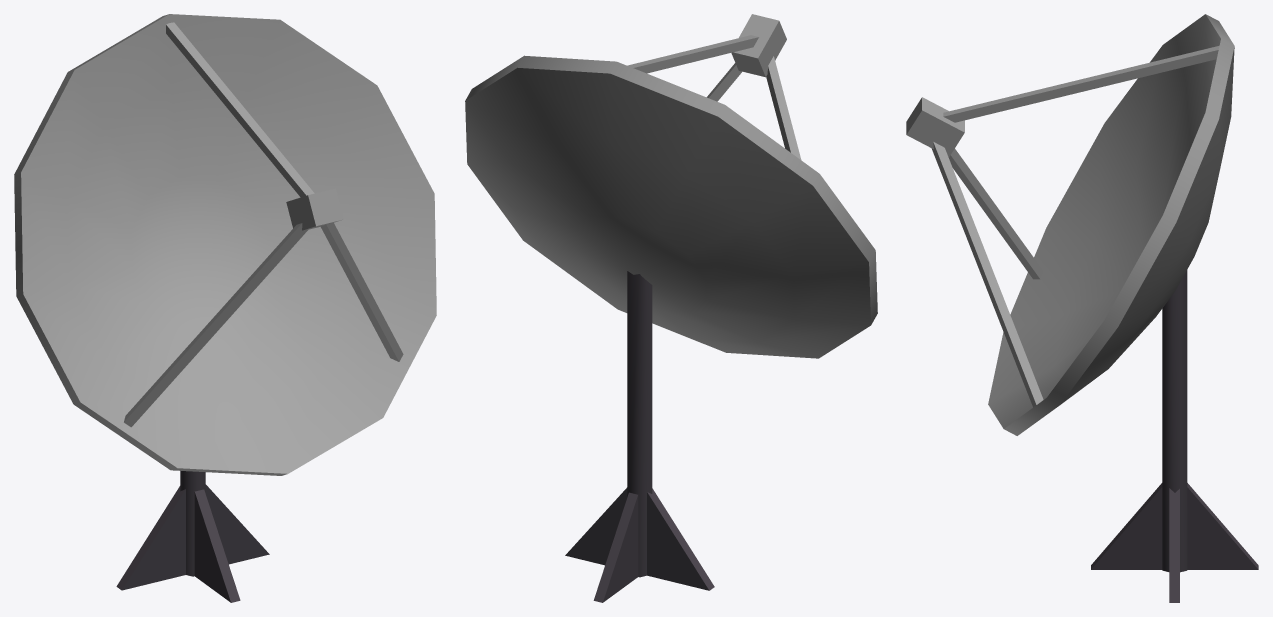
File: Antena_01.fbx
3 renders of one model, left to right at view 1: azimuth 30°, elevation 25°; view 2: azimuth 150°, elevation 25°; view 3: azimuth 270°, elevation 25°, orthographic. The views are drawn at different scales.
Visible parts, largest first — view 1: Antena_01; view 2: Antena_01; view 3: Antena_01.
Part boxes in pixels (left/top/right/bottom): Antena_01: left=14, top=14, right=436, bottom=602; Antena_01: left=465, top=14, right=877, bottom=602; Antena_01: left=906, top=14, right=1258, bottom=602.
Bounding box in the file's own units: 408 × 511 × 309.
1 material, 1 textured.
